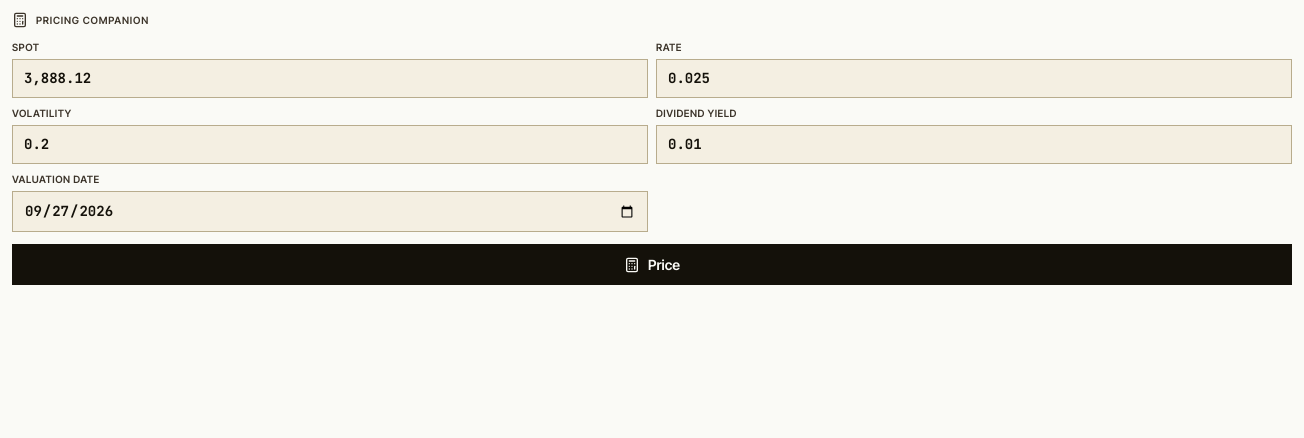
Test: BookingPricingCompanion › shows greeks unavailable note when greeks are null
expect the field labelled "Spot" is shown: met, box top-left (12, 59), bottom-right (648, 98)
Click the button "Price".
click(652, 264)  # box top-left (12, 244), bottom-right (1292, 285)
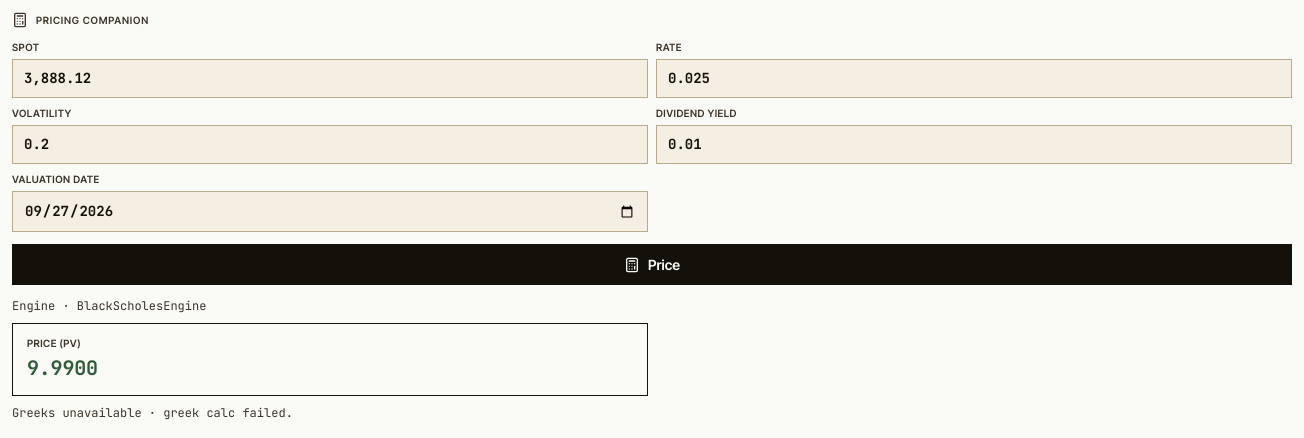
expect the text "Price (PV)" is shown: met, box top-left (27, 337), bottom-right (81, 349)
expect the text "9.9900" is shown: met, box top-left (27, 355), bottom-right (98, 381)
expect the text "Greeks unavailable · greek calc failed." is shown: met, box top-left (12, 405), bottom-right (293, 421)
